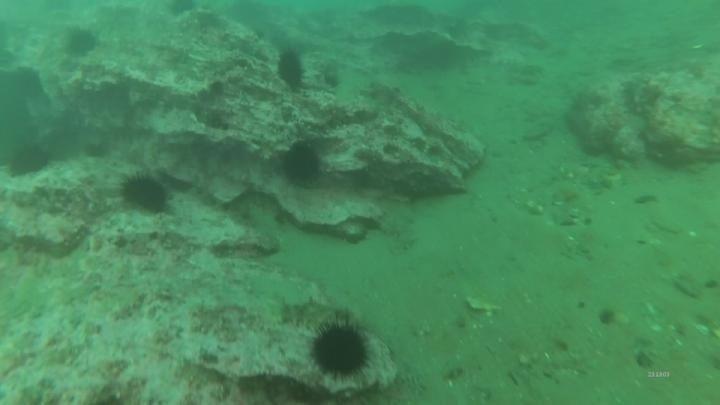echinus: (306, 316, 375, 383), (118, 170, 173, 216), (278, 138, 325, 188), (5, 140, 53, 180), (274, 47, 308, 92), (62, 25, 100, 60)
holothurian: (272, 295, 355, 333)
